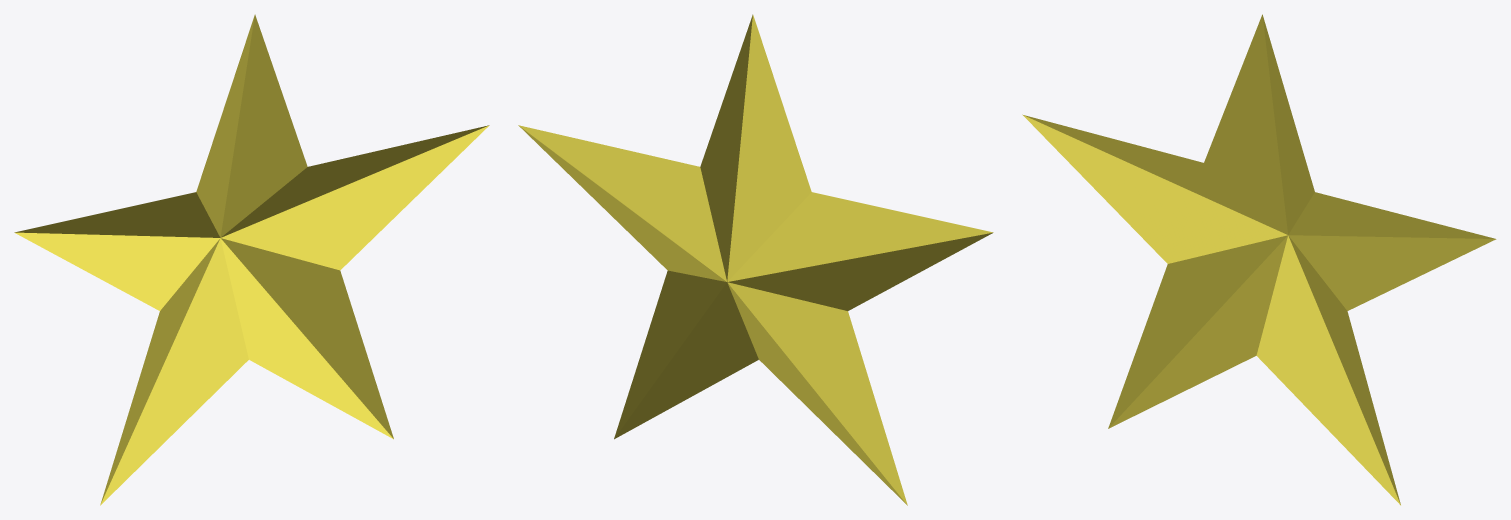
File: Star.FBX
3 renders of one model, left to right at view 1: azimuth 30°, elevation 25°; view 2: azimuth 150°, elevation 25°; view 3: azimuth 330°, elevation 25°, orthographic.
Parts seen in each view (by area): view 1: pCylinder1; view 2: pCylinder1; view 3: pCylinder1.
Boxes of the visible parts, x1,y1,x2,y2 form: pCylinder1: (14,14,489,505); pCylinder1: (518,14,993,505); pCylinder1: (1022,14,1496,505).
Size of the model in its own units: 1.83 by 1.69 by 0.2012.
